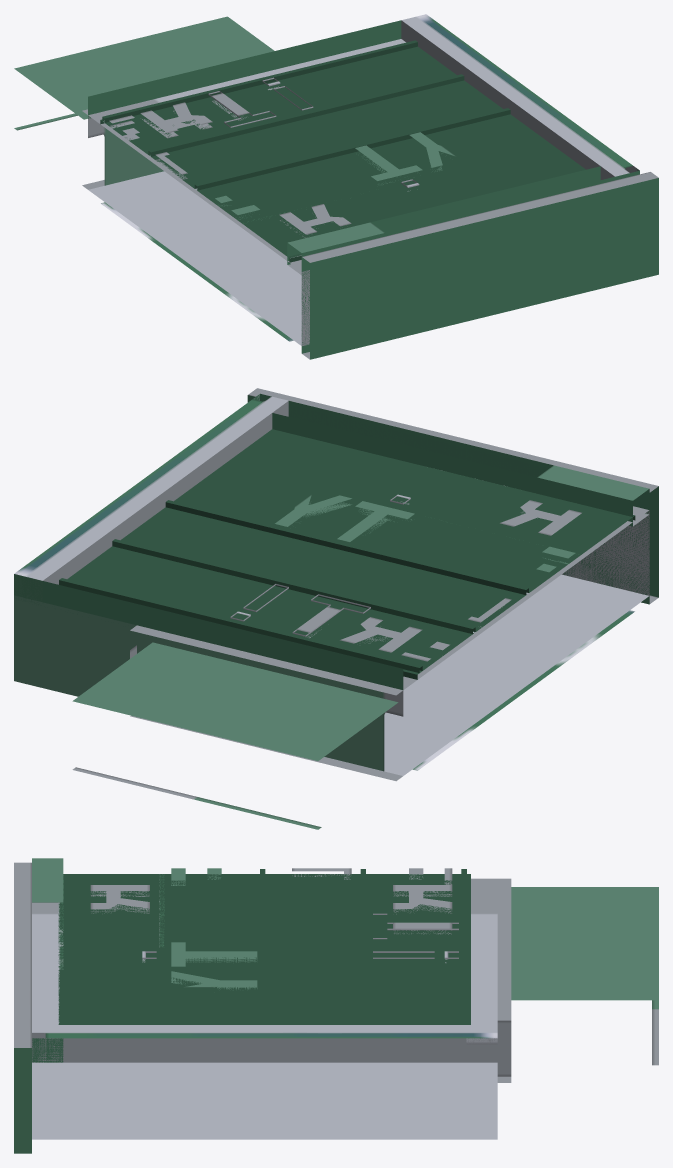
Rendered from section-1.obj.
3 views of the same model, one above another, from view 1: azimuth 30°, elevation 25°; view 2: azimuth 150°, elevation 25°; view 3: azimuth 270°, elevation 25° (orthographic). The views are drawn at different scales.
Bounding box in the file's own units: 0.98 × 0.27 × 1.44.
